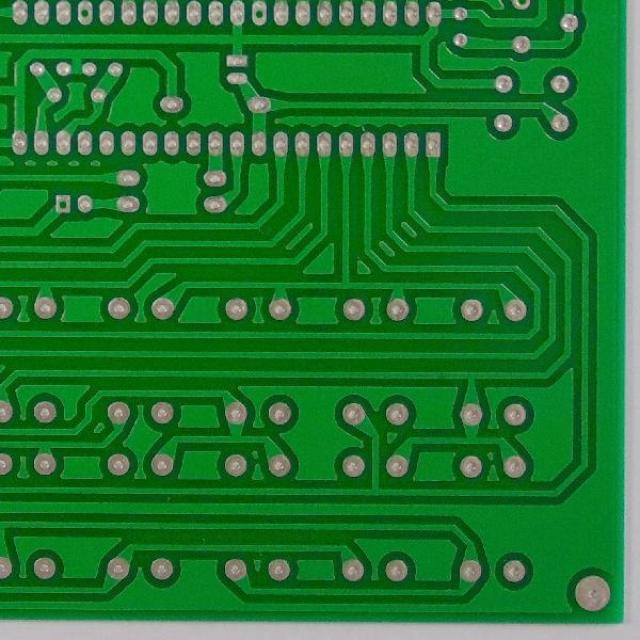missing_hole: (248, 2, 271, 27), (51, 192, 73, 218), (75, 2, 95, 27)
